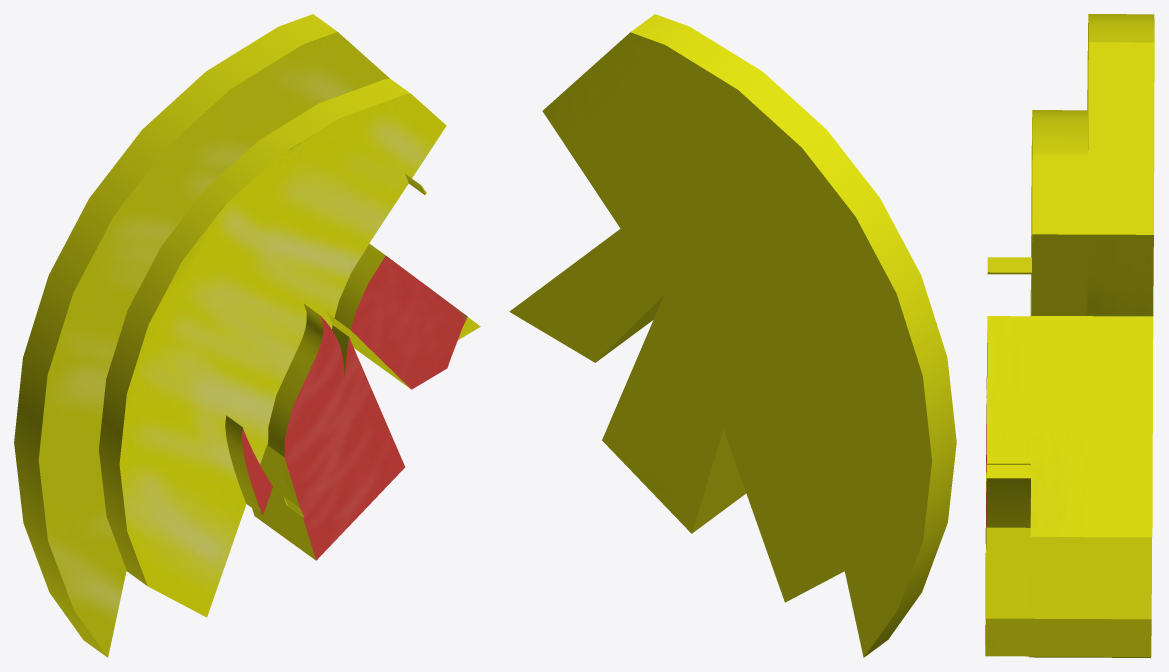
Rendered from talisman1.FBX.
3 renders of one model, left to right at view 1: azimuth 30°, elevation 25°; view 2: azimuth 150°, elevation 25°; view 3: azimuth 270°, elevation 25°, orthographic. The views are drawn at different scales.
Parts seen in each view (by area): view 1: Shape9, Shape8, Shape10; view 2: Shape8, Shape9; view 3: Shape8, Shape9, Shape10.
Boxes of the visible parts, x1,y1,x2,y2 form: Shape9: (99, 78, 480, 617); Shape8: (14, 14, 389, 657); Shape10: (225, 174, 467, 560); Shape8: (509, 14, 956, 657); Shape9: (621, 307, 742, 516); Shape8: (1084, 14, 1154, 657); Shape9: (1029, 110, 1102, 657); Shape10: (985, 257, 1037, 656).
Bounding box in the file's own units: 3.04 × 3.92 × 0.7872.
Materials: 1 (1 with a texture image).
